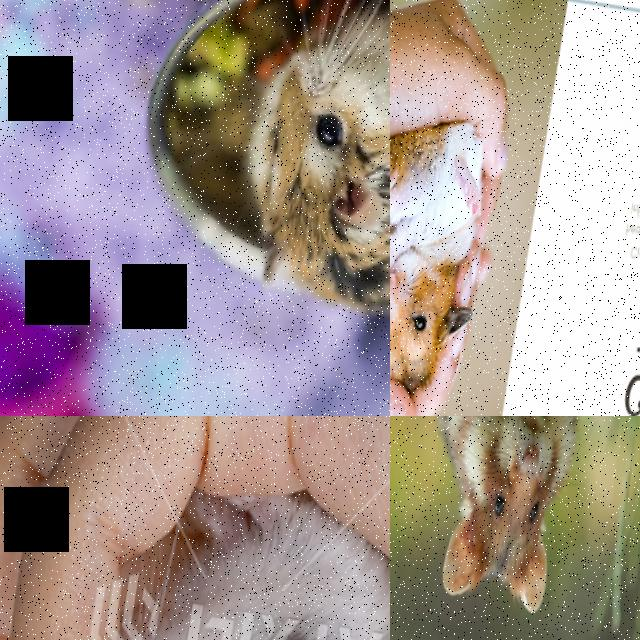hamster: (78, 459, 390, 640), (222, 0, 390, 335), (390, 416, 615, 617), (390, 102, 500, 400)
